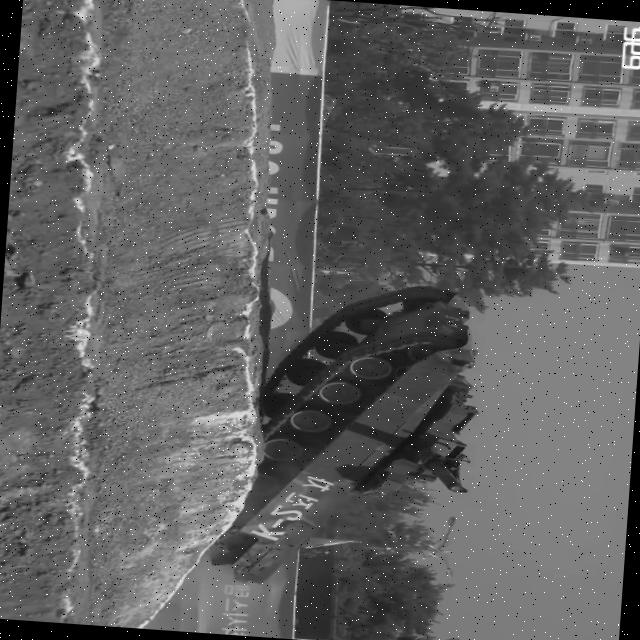korea tank: (205, 270, 492, 600)
